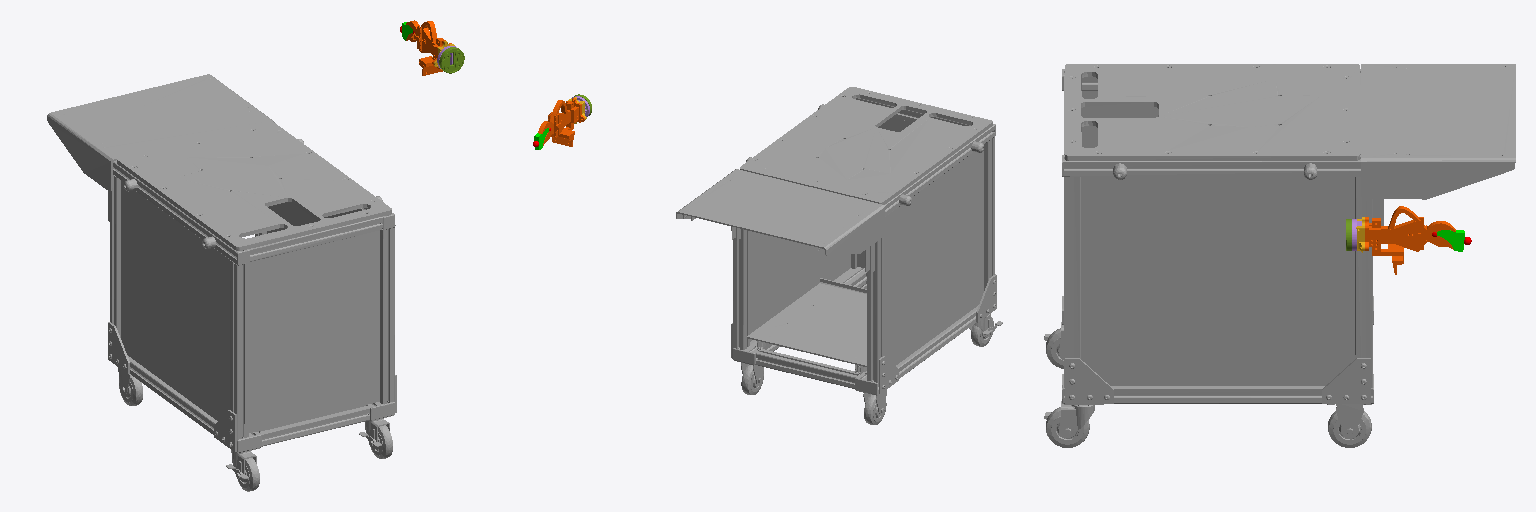
--- What the picture shows (computed from the rendered views, not written in the file) ---
The picture shows the robot from 3 angles, left to right: view 1: azimuth 30°, elevation 25°; view 2: azimuth 150°, elevation 25°; view 3: azimuth 270°, elevation 25°; orthographic projection.
Robot: pruning_robot — 33 links, 32 joints (6 revolute, 26 fixed); root link world; default pose: every joint at zero.
Links seen in each view (by area): view 1: cart__cart, mock_pruner__base; view 2: cart__cart, mock_pruner__base; view 3: cart__cart, mock_pruner__base.
Boxes of the visible links, left/top/right/bottom form: cart__cart: left=47, top=74, right=396, bottom=491; mock_pruner__base: left=406, top=20, right=451, bottom=75; cart__cart: left=676, top=87, right=1002, bottom=424; mock_pruner__base: left=538, top=98, right=584, bottom=146; cart__cart: left=1044, top=64, right=1515, bottom=447; mock_pruner__base: left=1365, top=206, right=1455, bottom=274.
Bounding box of the posed robot: 1.14 × 1.08 × 0.8888 m (x, y, z).
Meshes: 13 distinct files referenced, 6 mesh visuals loaded (5 binary STL, 1 OBJ); not drawn: 7 (reference not matched to a file when rendering).

robot.urdf — pruning_robot:
<?xml version='1.0' encoding='utf-8'?>
<robot name="pruning_robot">
  <link name="world" />
  <material name="grass_green">
    <color rgba="0.47058823529411764 0.6392156862745098 0.17254901960784313 1" />
  </material>
  <link name="rotation_correction_plate__base" />
  <link name="rotation_correction_plate__body">
    <visual>
      <material name="grass_green" />
      <origin rpy="0 0 0" xyz="0 0 0" />
      <geometry>
        <mesh filename="visual/RotationCorrectionPlate.STL" />
      </geometry>
    </visual>
    <collision>
      <origin rpy="0 0 0" xyz="0 0 0" />
      <geometry>
        <mesh filename="collision/RotationCorrectionPlate.STL" />
      </geometry>
    </collision>
    <inertial>
      <mass value="0.047" />
      <origin xyz="0.0 0.0 0.0" />
      <inertia ixx="0.0001" ixy="0.0" ixz="0.0" iyy="0.0001" iyz="0.0" izz="0.0001" />
    </inertial>
  </link>
  <link name="rotation_correction_plate__tool0" />
  <joint name="tool0--rotation_correction_plate__base" type="fixed">
    <origin rpy="0.0 0.0 0.0" xyz="0 0 0" />
    <parent link="tool0" />
    <child link="rotation_correction_plate__base" />
  </joint>
  <joint name="rotation_correction_plate__base--body" type="fixed">
    <origin rpy="0 0 0" xyz="0 0 0" />
    <parent link="rotation_correction_plate__base" />
    <child link="rotation_correction_plate__body" />
  </joint>
  <joint name="rotation_correction_plate__body--tool0" type="fixed">
    <origin rpy="0 0 0" xyz="0 0 0.01268" />
    <parent link="rotation_correction_plate__body" />
    <child link="rotation_correction_plate__tool0" />
  </joint>
  <material name="lavender">
    <color rgba="0.749 0.580 0.894 1" />
  </material>
  <link name="dovetail_male_mount__base" />
  <link name="dovetail_male_mount__body">
    <visual>
      <material name="lavender" />
      <origin rpy="0 0 0" xyz="0 0 0" />
      <geometry>
        <mesh filename="visual/DovetailMale.STL" />
      </geometry>
    </visual>
    <collision>
      <origin rpy="0 0 0" xyz="0 0 0" />
      <geometry>
        <mesh filename="collision/DovetailMale.STL" />
      </geometry>
    </collision>
    <inertial>
      <mass value="0.033" />
      <origin xyz="0.0 0.0 0.0" />
      <inertia ixx="0.0001" ixy="0.0" ixz="0.0" iyy="0.0001" iyz="0.0" izz="0.0001" />
    </inertial>
  </link>
  <link name="dovetail_male_mount__tool0" />
  <joint name="rotation_correction_plate__tool0--dovetail_male_mount__base" type="fixed">
    <origin rpy="0.0 0.0 0.0" xyz="0 0 0" />
    <parent link="rotation_correction_plate__tool0" />
    <child link="dovetail_male_mount__base" />
  </joint>
  <joint name="dovetail_male_mount__base--body" type="fixed">
    <origin rpy="0 0 0" xyz="0 0 0" />
    <parent link="dovetail_male_mount__base" />
    <child link="dovetail_male_mount__body" />
  </joint>
  <joint name="dovetail_male_mount__body--tool0" type="fixed">
    <origin rpy="0 0 0" xyz="0 0 0.02293" />
    <parent link="dovetail_male_mount__body" />
    <child link="dovetail_male_mount__tool0" />
  </joint>
  <material name="ochre">
    <color rgba="0.929 0.710 0.145 1" />
  </material>
  <link name="dovetail_female_mount__base" />
  <link name="dovetail_female_mount__body">
    <visual>
      <material name="ochre" />
      <origin rpy="0 0 0" xyz="0 0 0" />
      <geometry>
        <mesh filename="visual/DovetailFemale.STL" />
      </geometry>
    </visual>
    <collision>
      <origin rpy="0 0 0" xyz="0 0 0" />
      <geometry>
        <mesh filename="collision/DovetailFemale.STL" />
      </geometry>
    </collision>
    <inertial>
      <mass value="0.038" />
      <origin xyz="0.0 0.0 0.0" />
      <inertia ixx="0.0001" ixy="0.0" ixz="0.0" iyy="0.0001" iyz="0.0" izz="0.0001" />
    </inertial>
  </link>
  <link name="dovetail_female_mount__tool0" />
  <joint name="dovetail_male_mount__tool0--dovetail_female_mount__base" type="fixed">
    <origin rpy="0.0 0.0 0.0" xyz="0 0 0.0" />
    <parent link="dovetail_male_mount__tool0" />
    <child link="dovetail_female_mount__base" />
  </joint>
  <joint name="dovetail_female_mount__base--body" type="fixed">
    <origin rpy="0 0 0" xyz="0 0 0" />
    <parent link="dovetail_female_mount__base" />
    <child link="dovetail_female_mount__body" />
  </joint>
  <joint name="dovetail_female_mount__body--tool0" type="fixed">
    <origin rpy="0 0 0" xyz="0 0 0.008" />
    <parent link="dovetail_female_mount__body" />
    <child link="dovetail_female_mount__tool0" />
  </joint>
  <link name="mock_pruner__base">
    <visual>
      <material name="orange">
        <color rgba="1.0 0.4235294117647059 0.0392156862745098 1.0" />
      </material>
      <origin rpy="0 0 0" xyz="0 0 0" />
      <geometry>
        <mesh filename="visual/MockPrunerNoToF.STL" />
      </geometry>
    </visual>
    <collision>
      <origin rpy="0 0 0" xyz="0 0 0" />
      <geometry>
        <mesh filename="collision/MockPrunerNoToF.STL" />
      </geometry>
    </collision>
    <inertial>
      <mass value="0.256" />
      <origin xyz="0.0 0.0 0.0" />
      <inertia ixx="0.1" ixy="0.0" ixz="0.0" iyy="0.1" iyz="0.0" izz="0.1" />
    </inertial>
  </link>
  <link name="mock_pruner__camera0" />
  <link name="mock_pruner__tof0" />
  <link name="mock_pruner__tof1" />
  <link name="mock_pruner__tool0" />

  <!--  Phantom links and joints for RL rewards-->
  <link name="mock_pruner__endpoint">
     <visual>
      <origin rpy="0 0 0" xyz="0 0 0"/>
      <geometry>
        <sphere radius="0.01" />
      </geometry>
      <material name="red">
        <color rgba="1 0 0 0" />
      </material>
    </visual>

     <inertial>
      <origin rpy="0 0 0" xyz="1.0E-08 1.0E-08 1.0E-08"/>
      <mass value="1.0E-08"/>
      <inertia ixx="1.0E-08" ixy="1.0E-08" ixz="1.0E-08" iyy="1.0E-08" iyz="1.0E-08" izz="1.0E-08"/>
    </inertial>
  </link>
  <joint name="mock_pruner__base--mock_pruner__endpoint" type="fixed">
    <origin rpy="0 0 0" xyz="0.0 -0.0147 0.235"/>
    <axis xyz="0 0 1"/>
    <parent link="mock_pruner__base"/>
    <child link="mock_pruner__endpoint"/>
  </joint>
  <link name="mock_pruner__mouth_base">
     <visual>
      <origin rpy="0 0 0" xyz="0 0 0"/>
      <geometry>
        <sphere radius="0.01" />
      </geometry>
      <material name="red">
        <color rgba="1 0 0 0" />
      </material>
    </visual>

    <inertial>
      <origin rpy="0 0 0" xyz="1.0E-08 1.0E-08 1.0E-08"/>
      <mass value="1.0E-08"/>
      <inertia ixx="1.0E-08" ixy="1.0E-08" ixz="1.0E-08" iyy="1.0E-08" iyz="1.0E-08" izz="1.0E-08"/>
    </inertial>
  </link>
  <joint name="mock_pruner__base--mock_pruner__mouth_base" type="fixed">
    <origin rpy="0 0 0" xyz="0 0.005 0.16"/>
    <axis xyz="0 0 1"/>
    <parent link="mock_pruner__base"/>
    <child link="mock_pruner__mouth_base"/>
  </joint>
  <link name="mock_pruner__mouth">
    <visual>
      <origin rpy="0 0 0" xyz="0.0 0.0 0.0"/>
      <geometry>
        <mesh filename="ur5e/collision/cutter-mouth-success.stl"/>
      </geometry>
      <material name="green">
        <color rgba="0 1 0 0" />
      </material>
    </visual>
    <inertial>
      <origin rpy="0 0 0" xyz="1.0E-08 1.0E-08 1.0E-08"/>
      <mass value="1.0E-08"/>
      <inertia ixx="1.0E-08" ixy="1.0E-08" ixz="1.0E-08" iyy="1.0E-08" iyz="1.0E-08" izz="1.0E-08"/>
    </inertial>
    <collision>
        <origin rpy="0 0 0" xyz="0.0 0.0 0.0"/>
        <geometry>
            <mesh filename="ur5e/collision/cutter-mouth-success.stl"/>
        </geometry>
    </collision>
  </link>
  <joint name="mock_pruner__base--mock_pruner__mouth" type="fixed">
    <origin rpy="0 0 3.1415" xyz="0.0 0.0 0.0"/>
    <axis xyz="0 0 1"/>
    <parent link="mock_pruner__mouth_base"/>
    <child link="mock_pruner__mouth"/>
    </joint>
  <joint name="dovetail_female_mount__tool0--mock_pruner__base" type="fixed">
    <origin rpy="0.0 0.0 0.0" xyz="0 0 0" />
    <parent link="dovetail_female_mount__tool0" />
    <child link="mock_pruner__base" />
  </joint>
  <joint name="mock_pruner__base--camera0" type="fixed">
    <origin rpy="0 0 0" xyz="-0.0017977 -0.0715747 0.0711646" />
    <parent link="mock_pruner__base" />
    <child link="mock_pruner__camera0" />
  </joint>
  <joint name="mock_pruner__base--tof0" type="fixed">
    <origin rpy="0 0 0" xyz="0.04891 0.005 0.14237" />
    <parent link="mock_pruner__base" />
    <child link="mock_pruner__tof0" />
  </joint>
  <joint name="mock_pruner__base--tof1" type="fixed">
    <origin rpy="0 0 0" xyz="-0.04891 0.005 0.14237" />
    <parent link="mock_pruner__base" />
    <child link="mock_pruner__tof1" />
  </joint>
  <joint name="mock_pruner__base--tool0" type="fixed">
    <origin rpy="0 0 0" xyz="0.0 0.0050825 0.1601525" />
    <parent link="mock_pruner__base" />
    <child link="mock_pruner__tool0" />
  </joint>
  <ros2_control name="pruning_robot" type="system">
    <hardware>
      <plugin>mock_components/GenericSystem</plugin>
      <param name="fake_sensor_commands">False</param>
      <param name="state_following_offset">0.0</param>
      <param name="calculate_dynamics">true</param>
    </hardware>
    <joint name="shoulder_pan_joint">
      <command_interface name="position" />
      <command_interface name="velocity" />
      <state_interface name="position">
        <param name="initial_value">0.0</param>
      </state_interface>
      <state_interface name="velocity" />
      <state_interface name="effort" />
    </joint>
    <joint name="shoulder_lift_joint">
      <command_interface name="position" />
      <command_interface name="velocity" />
      <state_interface name="position">
        <param name="initial_value">-1.83259571459</param>
      </state_interface>
      <state_interface name="velocity" />
      <state_interface name="effort" />
    </joint>
    <joint name="elbow_joint">
      <command_interface name="position" />
      <command_interface name="velocity" />
      <state_interface name="position">
        <param name="initial_value">2.09439510239</param>
      </state_interface>
      <state_interface name="velocity" />
      <state_interface name="effort" />
    </joint>
    <joint name="wrist_1_joint">
      <command_interface name="position" />
      <command_interface name="velocity" />
      <state_interface name="position">
        <param name="initial_value">2.87979326579</param>
      </state_interface>
      <state_interface name="velocity" />
      <state_interface name="effort" />
    </joint>
    <joint name="wrist_2_joint">
      <command_interface name="position" />
      <command_interface name="velocity" />
      <state_interface name="position">
        <param name="initial_value">-1.57079632679</param>
      </state_interface>
      <state_interface name="velocity" />
      <state_interface name="effort" />
    </joint>
    <joint name="wrist_3_joint">
      <command_interface name="position" />
      <command_interface name="velocity" />
      <state_interface name="position">
        <param name="initial_value">0.0</param>
      </state_interface>
      <state_interface name="velocity" />
      <state_interface name="effort" />
    </joint>
    <sensor name="tcp_fts_sensor">
      <state_interface name="force.x" />
      <state_interface name="force.y" />
      <state_interface name="force.z" />
      <state_interface name="torque.x" />
      <state_interface name="torque.y" />
      <state_interface name="torque.z" />
    </sensor>
    <sensor name="tcp_pose">
      <state_interface name="position.x" />
      <state_interface name="position.y" />
      <state_interface name="position.z" />
      <state_interface name="orientation.x" />
      <state_interface name="orientation.y" />
      <state_interface name="orientation.z" />
      <state_interface name="orientation.w" />
    </sensor>
    <gpio name="speed_scaling">
      <state_interface name="speed_scaling_factor" />
      <param name="initial_speed_scaling_factor">1</param>
      <command_interface name="target_speed_fraction_cmd" />
      <command_interface name="target_speed_fraction_async_success" />
    </gpio>
    <gpio name="gpio">
      <command_interface name="standard_digital_output_cmd_0" />
      <command_interface name="standard_digital_output_cmd_1" />
      <command_interface name="standard_digital_output_cmd_2" />
      <command_interface name="standard_digital_output_cmd_3" />
      <command_interface name="standard_digital_output_cmd_4" />
      <command_interface name="standard_digital_output_cmd_5" />
      <command_interface name="standard_digital_output_cmd_6" />
      <command_interface name="standard_digital_output_cmd_7" />
      <command_interface name="standard_digital_output_cmd_8" />
      <command_interface name="standard_digital_output_cmd_9" />
      <command_interface name="standard_digital_output_cmd_10" />
      <command_interface name="standard_digital_output_cmd_11" />
      <command_interface name="standard_digital_output_cmd_12" />
      <command_interface name="standard_digital_output_cmd_13" />
      <command_interface name="standard_digital_output_cmd_14" />
      <command_interface name="standard_digital_output_cmd_15" />
      <command_interface name="standard_digital_output_cmd_16" />
      <command_interface name="standard_digital_output_cmd_17" />
      <command_interface name="standard_analog_output_cmd_0" />
      <command_interface name="standard_analog_output_cmd_1" />
      <command_interface name="analog_output_domain_cmd" />
      <command_interface name="tool_voltage_cmd" />
      <command_interface name="io_async_success" />
      <state_interface name="digital_output_0" />
      <state_interface name="digital_output_1" />
      <state_interface name="digital_output_2" />
      <state_interface name="digital_output_3" />
      <state_interface name="digital_output_4" />
      <state_interface name="digital_output_5" />
      <state_interface name="digital_output_6" />
      <state_interface name="digital_output_7" />
      <state_interface name="digital_output_8" />
      <state_interface name="digital_output_9" />
      <state_interface name="digital_output_10" />
      <state_interface name="digital_output_11" />
      <state_interface name="digital_output_12" />
      <state_interface name="digital_output_13" />
      <state_interface name="digital_output_14" />
      <state_interface name="digital_output_15" />
      <state_interface name="digital_output_16" />
      <state_interface name="digital_output_17" />
      <state_interface name="digital_input_0" />
      <state_interface name="digital_input_1" />
      <state_interface name="digital_input_2" />
      <state_interface name="digital_input_3" />
      <state_interface name="digital_input_4" />
      <state_interface name="digital_input_5" />
      <state_interface name="digital_input_6" />
      <state_interface name="digital_input_7" />
      <state_interface name="digital_input_8" />
      <state_interface name="digital_input_9" />
      <state_interface name="digital_input_10" />
      <state_interface name="digital_input_11" />
      <state_interface name="digital_input_12" />
      <state_interface name="digital_input_13" />
      <state_interface name="digital_input_14" />
      <state_interface name="digital_input_15" />
      <state_interface name="digital_input_16" />
      <state_interface name="digital_input_17" />
      <state_interface name="standard_analog_output_0" />
      <state_interface name="standard_analog_output_1" />
      <state_interface name="standard_analog_input_0" />
      <state_interface name="standard_analog_input_1" />
      <state_interface name="analog_io_type_0" />
      <state_interface name="analog_io_type_1" />
      <state_interface name="analog_io_type_2" />
      <state_interface name="analog_io_type_3" />
      <state_interface name="tool_mode" />
      <state_interface name="tool_output_voltage" />
      <state_interface name="tool_output_current" />
      <state_interface name="tool_temperature" />
      <state_interface name="tool_analog_input_0" />
      <state_interface name="tool_analog_input_1" />
      <state_interface name="tool_analog_input_type_0" />
      <state_interface name="tool_analog_input_type_1" />
      <state_interface name="robot_mode" />
      <state_interface name="robot_status_bit_0" />
      <state_interface name="robot_status_bit_1" />
      <state_interface name="robot_status_bit_2" />
      <state_interface name="robot_status_bit_3" />
      <state_interface name="safety_mode" />
      <state_interface name="safety_status_bit_0" />
      <state_interface name="safety_status_bit_1" />
      <state_interface name="safety_status_bit_2" />
      <state_interface name="safety_status_bit_3" />
      <state_interface name="safety_status_bit_4" />
      <state_interface name="safety_status_bit_5" />
      <state_interface name="safety_status_bit_6" />
      <state_interface name="safety_status_bit_7" />
      <state_interface name="safety_status_bit_8" />
      <state_interface name="safety_status_bit_9" />
      <state_interface name="safety_status_bit_10" />
      <state_interface name="program_running" />
    </gpio>
    <gpio name="payload">
      <command_interface name="mass" />
      <command_interface name="cog.x" />
      <command_interface name="cog.y" />
      <command_interface name="cog.z" />
      <command_interface name="payload_async_success" />
    </gpio>
    <gpio name="resend_robot_program">
      <command_interface name="resend_robot_program_cmd" />
      <command_interface name="resend_robot_program_async_success" />
    </gpio>
    <gpio name="hand_back_control">
      <command_interface name="hand_back_control_cmd" />
      <command_interface name="hand_back_control_async_success" />
    </gpio>
    <gpio name="zero_ftsensor">
      <command_interface name="zero_ftsensor_cmd" />
      <command_interface name="zero_ftsensor_async_success" />
    </gpio>
    <gpio name="system_interface">
      <state_interface name="initialized" />
    </gpio>
    <gpio name="get_robot_software_version">
      <state_interface name="get_version_major" />
      <state_interface name="get_version_minor" />
      <state_interface name="get_version_build" />
      <state_interface name="get_version_bugfix" />
    </gpio>
  </ros2_control>
  <link name="base_link" />
  <link name="base_link_inertia">
    <visual>
      <origin rpy="0 0 3.141592653589793" xyz="0 0 0" />
      <geometry>
        <mesh filename="visual/base.dae" />
      </geometry>
    </visual>
    <collision>
      <origin rpy="0 0 3.141592653589793" xyz="0 0 0" />
      <geometry>
        <mesh filename="collision/base.stl" />
      </geometry>
    </collision>
    <inertial>
      <mass value="4.0" />
      <origin rpy="0 0 0" xyz="0 0 0" />
      <inertia ixx="0.00443333156" ixy="0.0" ixz="0.0" iyy="0.00443333156" iyz="0.0" izz="0.0072" />
    </inertial>
  </link>
  <link name="shoulder_link">
    <visual>
      <origin rpy="0 0 3.141592653589793" xyz="0 0 0" />
      <geometry>
        <mesh filename="visual/shoulder.dae" />
      </geometry>
    </visual>
    <collision>
      <origin rpy="0 0 3.141592653589793" xyz="0 0 0" />
      <geometry>
        <mesh filename="collision/shoulder.stl" />
      </geometry>
    </collision>
    <inertial>
      <mass value="3.761" />
      <origin rpy="0 0 0" xyz="0.0 -0.00193 -0.02561" />
      <inertia ixx="0.010267499999999999" ixy="0" ixz="0" iyy="0.010267499999999999" iyz="0" izz="0.00666" />
    </inertial>
  </link>
  <link name="upper_arm_link">
    <visual>
      <origin rpy="1.5707963267948966 0 -1.5707963267948966" xyz="0 0 0.138" />
      <geometry>
        <mesh filename="visual/upperarm.dae" />
      </geometry>
    </visual>
    <collision>
      <origin rpy="1.5707963267948966 0 -1.5707963267948966" xyz="0 0 0.138" />
      <geometry>
        <mesh filename="collision/upperarm.stl" />
      </geometry>
    </collision>
    <inertial>
      <mass value="8.058" />
      <origin rpy="0 1.570796326794897 0" xyz="-0.2125 0.0 0.11336" />
      <inertia ixx="0.13388583541666665" ixy="0" ixz="0" iyy="0.13388583541666665" iyz="0" izz="0.0151074" />
    </inertial>
  </link>
  <link name="forearm_link">
    <visual>
      <origin rpy="1.5707963267948966 0 -1.5707963267948966" xyz="0 0 0.007" />
      <geometry>
        <mesh filename="visual/forearm.dae" />
      </geometry>
    </visual>
    <collision>
      <origin rpy="1.5707963267948966 0 -1.5707963267948966" xyz="0 0 0.007" />
      <geometry>
        <mesh filename="collision/forearm.stl" />
      </geometry>
    </collision>
    <inertial>
      <mass value="2.846" />
      <origin rpy="0 1.570796326794897 0" xyz="-0.2422 0.0 0.0265" />
      <inertia ixx="0.03120936758333333" ixy="0" ixz="0" iyy="0.03120936758333333" iyz="0" izz="0.004095" />
    </inertial>
  </link>
  <link name="wrist_1_link">
    <visual>
      <origin rpy="1.5707963267948966 0 0" xyz="0 0 -0.127" />
      <geometry>
        <mesh filename="visual/wrist1.dae" />
      </geometry>
    </visual>
    <collision>
      <origin rpy="1.5707963267948966 0 0" xyz="0 0 -0.127" />
      <geometry>
        <mesh filename="collision/wrist1.stl" />
      </geometry>
    </collision>
    <inertial>
      <mass value="1.37" />
      <origin rpy="0 0 0" xyz="0.0 -0.01634 -0.0018" />
      <inertia ixx="0.0025599" ixy="0" ixz="0" iyy="0.0025599" iyz="0" izz="0.0021942" />
    </inertial>
  </link>
  <link name="wrist_2_link">
    <visual>
      <origin rpy="0 0 0" xyz="0 0 -0.0997" />
      <geometry>
        <mesh filename="visual/wrist2.dae" />
      </geometry>
    </visual>
    <collision>
      <origin rpy="0 0 0" xyz="0 0 -0.0997" />
      <geometry>
        <mesh filename="collision/wrist2.stl" />
      </geometry>
    </collision>
    <inertial>
      <mass value="1.3" />
      <origin rpy="0 0 0" xyz="0.0 0.01634 -0.0018" />
      <inertia ixx="0.0025599" ixy="0" ixz="0" iyy="0.0025599" iyz="0" izz="0.0021942" />
    </inertial>
  </link>
  <link name="wrist_3_link">
    <visual>
      <origin rpy="1.5707963267948966 0 0" xyz="0 0 -0.0989" />
      <geometry>
        <mesh filename="visual/wrist3.dae" />
      </geometry>
    </visual>
    <collision>
      <origin rpy="1.5707963267948966 0 0" xyz="0 0 -0.0989" />
      <geometry>
        <mesh filename="collision/wrist3.stl" />
      </geometry>
    </collision>
    <inertial>
      <mass value="0.365" />
      <origin rpy="0 0 0" xyz="0.0 0.0 -0.001159" />
      <inertia ixx="9.890414008333333e-05" ixy="0" ixz="0" iyy="9.890414008333333e-05" iyz="0" izz="0.0001321171875" />
    </inertial>
  </link>
  <joint name="base_joint" type="fixed">
    <origin rpy="0 0 0" xyz="0 0 0" />
    <parent link="cart__tool0" />
    <child link="base_link" />
  </joint>
  <joint name="base_link-base_link_inertia" type="fixed">
    <parent link="base_link" />
    <child link="base_link_inertia" />
    <origin rpy="0 0 3.141592653589793" xyz="0 0 0" />
  </joint>
  <joint name="shoulder_pan_joint" type="revolute">
    <parent link="base_link_inertia" />
    <child link="shoulder_link" />
    <origin rpy="0 0 0" xyz="0 0 0.1625" />
    <axis xyz="0 0 1" />
    <limit effort="150.0" lower="-6.283185307179586" upper="6.283185307179586" velocity="3.141592653589793" />
    <dynamics damping="0" friction="0" />
  </joint>
  <joint name="shoulder_lift_joint" type="revolute">
    <parent link="shoulder_link" />
    <child link="upper_arm_link" />
    <origin rpy="1.570796327 0 0" xyz="0 0 0" />
    <axis xyz="0 0 1" />
    <limit effort="150.0" lower="-6.283185307179586" upper="6.283185307179586" velocity="3.141592653589793" />
    <dynamics damping="0" friction="0" />
  </joint>
  <joint name="elbow_joint" type="revolute">
    <parent link="upper_arm_link" />
    <child link="forearm_link" />
    <origin rpy="0 0 0" xyz="-0.425 0 0" />
    <axis xyz="0 0 1" />
    <limit effort="150.0" lower="-3.141592653589793" upper="3.141592653589793" velocity="3.141592653589793" />
    <dynamics damping="0" friction="0" />
  </joint>
  <joint name="wrist_1_joint" type="revolute">
    <parent link="forearm_link" />
    <child link="wrist_1_link" />
    <origin rpy="0 0 0" xyz="-0.3922 0 0.1333" />
    <axis xyz="0 0 1" />
    <limit effort="28.0" lower="-6.283185307179586" upper="6.283185307179586" velocity="3.141592653589793" />
    <dynamics damping="0" friction="0" />
  </joint>
  <joint name="wrist_2_joint" type="revolute">
    <parent link="wrist_1_link" />
    <child link="wrist_2_link" />
    <origin rpy="1.570796327 0 0" xyz="0 -0.0997 -2.044881182297852e-11" />
    <axis xyz="0 0 1" />
    <limit effort="28.0" lower="-6.283185307179586" upper="6.283185307179586" velocity="3.141592653589793" />
    <dynamics damping="0" friction="0" />
  </joint>
  <joint name="wrist_3_joint" type="revolute">
    <parent link="wrist_2_link" />
    <child link="wrist_3_link" />
    <origin rpy="1.570796326589793 3.141592653589793 3.141592653589793" xyz="0 0.0996 -2.042830148012698e-11" />
    <axis xyz="0 0 1" />
    <limit effort="28.0" lower="-6.283185307179586" upper="6.283185307179586" velocity="3.141592653589793" />
    <dynamics damping="0" friction="0" />
  </joint>
  <link name="ft_frame" />
  <joint name="wrist_3_link-ft_frame" type="fixed">
    <parent link="wrist_3_link" />
    <child link="ft_frame" />
    <origin rpy="3.141592653589793 0 0" xyz="0 0 0" />
  </joint>
  <link name="base" />
  <joint name="base_link-base_fixed_joint" type="fixed">
    <origin rpy="0 0 3.141592653589793" xyz="0 0 0" />
    <parent link="base_link" />
    <child link="base" />
  </joint>
  <link name="flange" />
  <joint name="wrist_3-flange" type="fixed">
    <parent link="wrist_3_link" />
    <child link="flange" />
    <origin rpy="0 -1.5707963267948966 -1.5707963267948966" xyz="0 0 0" />
  </joint>
  <link name="tool0" />
  <joint name="flange-tool0" type="fixed">
    <origin rpy="1.5707963267948966 0 1.5707963267948966" xyz="0 0 0" />
    <parent link="flange" />
    <child link="tool0" />
  </joint>
  <material name="LightGrey">
    <color rgba="0.7 0.7 0.7 1.0" />
  </material>
  <link name="cart__base" />
  <link name="cart__cart">
    <visual>
      <origin rpy="0.0 0.0 0.0" xyz="0.0 0.0 0.75711" />
      <geometry>
        <mesh filename="ur5e/visual/robot_cart.obj"/>
      </geometry>
      <material name="LightGrey" />
    </visual>
    <collision>
      <origin rpy="0.0 0.0 0.0" xyz="0.0 0.0 0.378555" />
      <geometry>
        <box size="0.5 1.0 0.75711" />
      </geometry>
    </collision>
    <inertial>
      <origin rpy="0 0 0" xyz="0.0 0.0 0.0" />
      <mass value="20.0" />
      <inertia ixx="2.6220259201666662" ixy="0.0" ixz="0.0" iyy="1.3720259201666665" iyz="0.0" izz="2.083333333333333" />
    </inertial>
  </link>
    <link name="cart__tool0" />
  <joint name="world--cart__base" type="fixed">
    <origin rpy="0 0 0" xyz="0 0 0" />
    <parent link="world" />
    <child link="cart__base" />
  </joint>
  <joint name="cart__base--cart__cart" type="fixed">
    <origin rpy="0 0 0" xyz="0 0 0" />
    <parent link="cart__base" />
    <child link="cart__cart" />
  </joint>
  <joint name="cart__cart--cart__tool0" type="fixed">
    <origin rpy="0 0 0" xyz="0 0 0.75711" />
    <parent link="cart__cart" />
    <child link="cart__tool0" />
  </joint>
</robot>
